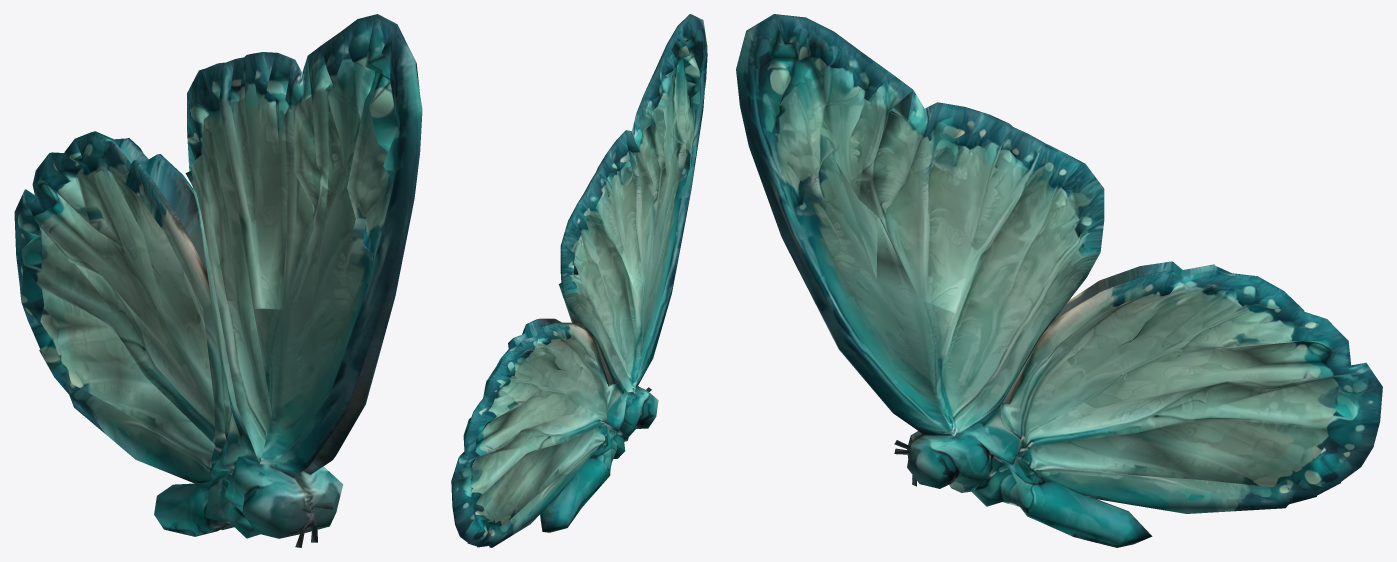
3 renders of one model, left to right at view 1: azimuth 30°, elevation 25°; view 2: azimuth 150°, elevation 25°; view 3: azimuth 270°, elevation 25°, orthographic. The views are drawn at different scales.
Visible parts, largest first — view 1: tripo_node_f5c5604b-cead-4dc0-b090-c3fef4fec58e; view 2: tripo_node_f5c5604b-cead-4dc0-b090-c3fef4fec58e; view 3: tripo_node_f5c5604b-cead-4dc0-b090-c3fef4fec58e.
Boxes of the visible parts, x1=… form: tripo_node_f5c5604b-cead-4dc0-b090-c3fef4fec58e: x1=14, y1=14, x2=422, y2=547; tripo_node_f5c5604b-cead-4dc0-b090-c3fef4fec58e: x1=451, y1=14, x2=707, y2=547; tripo_node_f5c5604b-cead-4dc0-b090-c3fef4fec58e: x1=736, y1=14, x2=1382, y2=547.
Bounding box in the file's own units: 0.00767 × 0.05 × 0.0552.
Materials: 1 (1 with a texture image).
